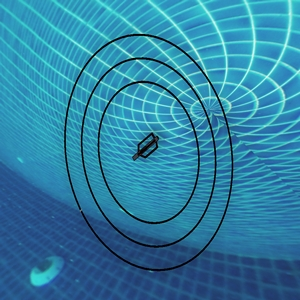submarine: (133, 132, 161, 158)
